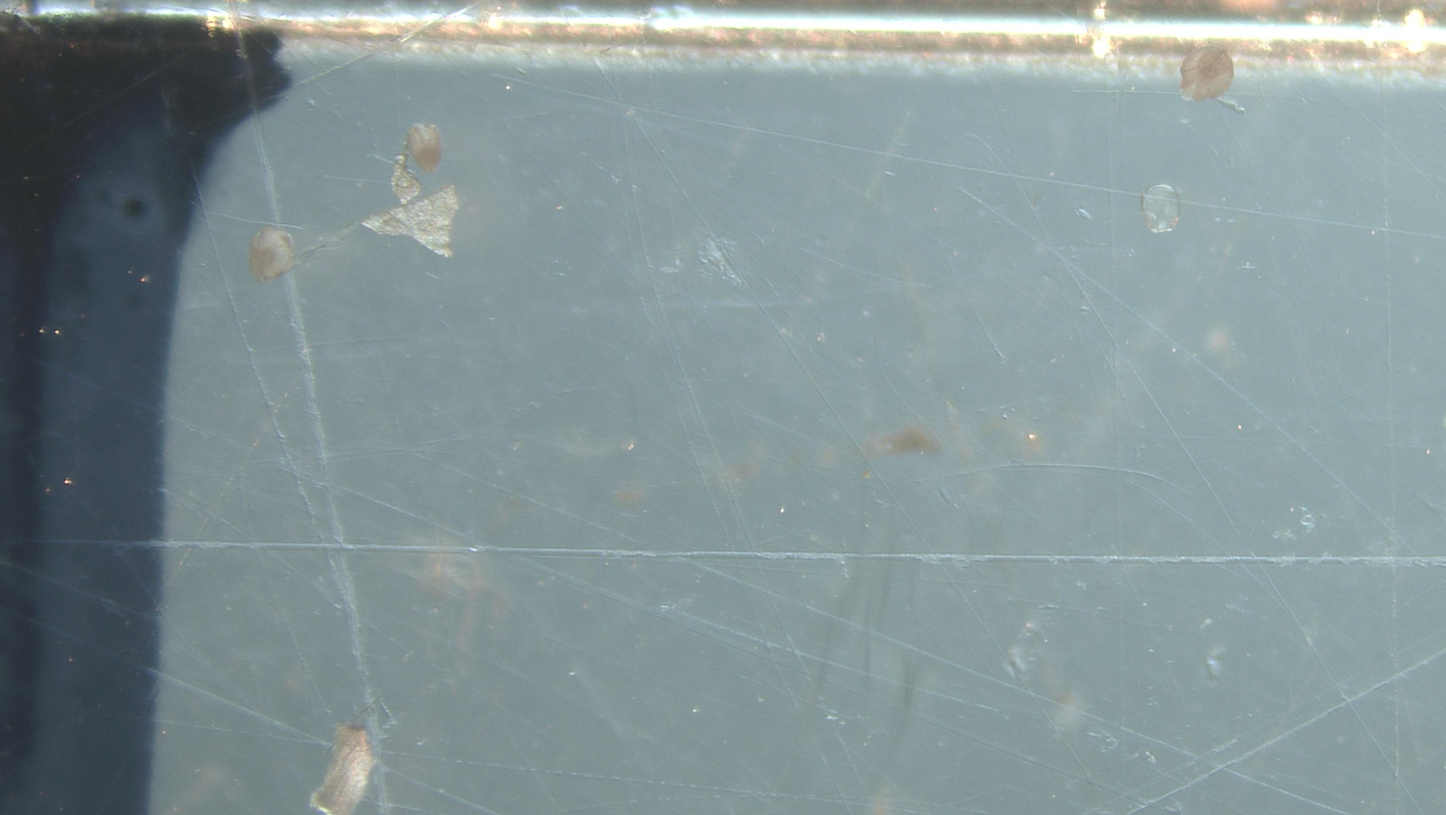dead: (1142, 185, 1179, 233)
live: (1181, 46, 1234, 101), (250, 226, 293, 282), (407, 124, 442, 172)
